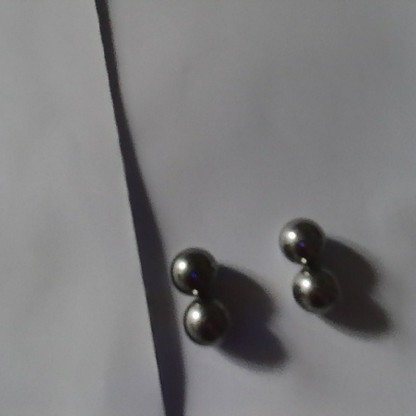ironball: (182, 295, 230, 344), (169, 246, 215, 295), (292, 266, 336, 311), (278, 218, 322, 261)
